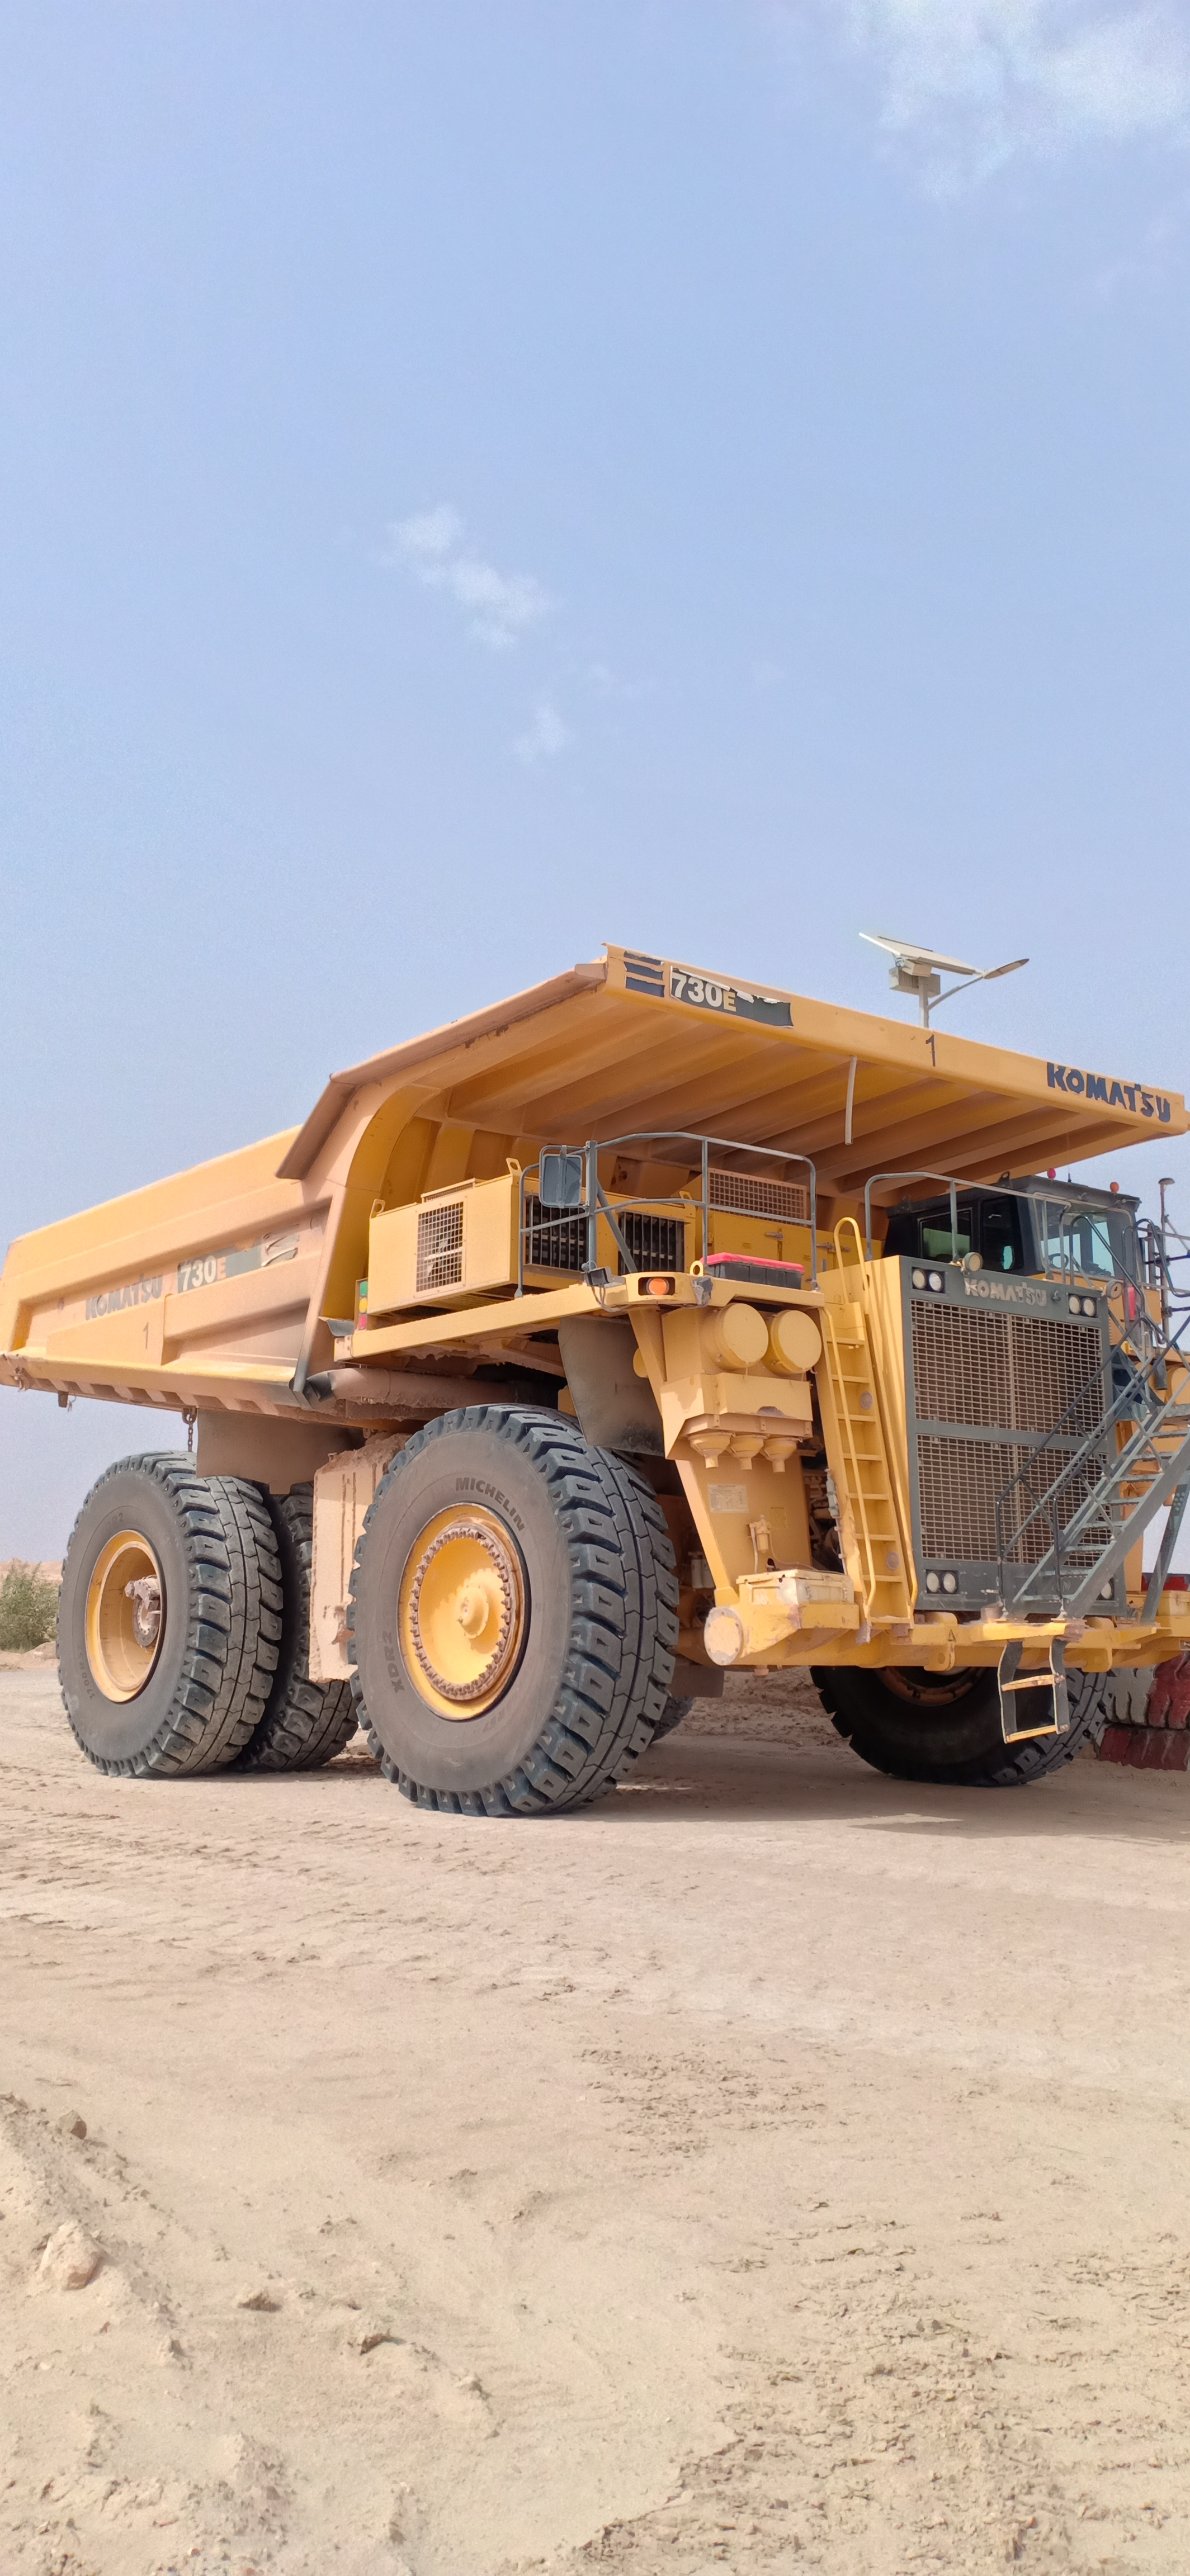camion: (8, 943, 1190, 1819)
